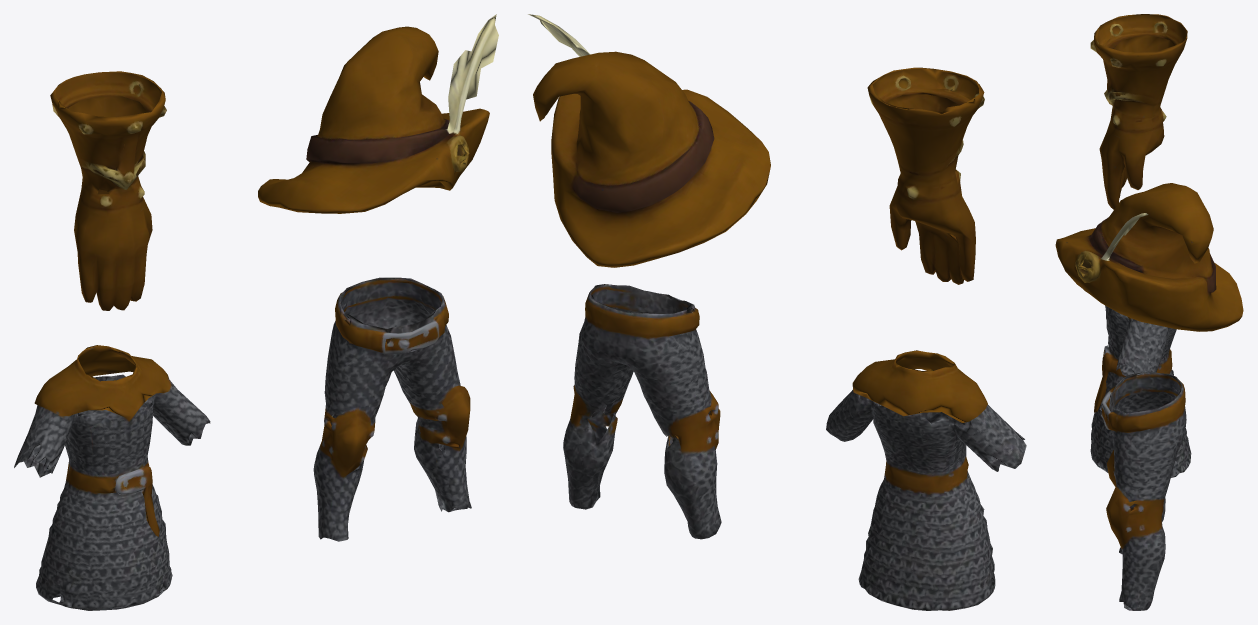
The picture shows the model from 3 angles, left to right: view 1: azimuth 30°, elevation 25°; view 2: azimuth 150°, elevation 25°; view 3: azimuth 270°, elevation 25°; orthographic projection. The views are drawn at different scales.
Parts seen in each view (by area): view 1: world; view 2: world; view 3: world.
Boxes of the visible parts, bbox=[...] form: world: bbox=[14, 14, 498, 610]; world: bbox=[528, 14, 1026, 610]; world: bbox=[1055, 14, 1243, 610].
Bounding box in the file's own units: 0.9746 × 0.9579 × 0.3777.
1 material, 1 textured.
